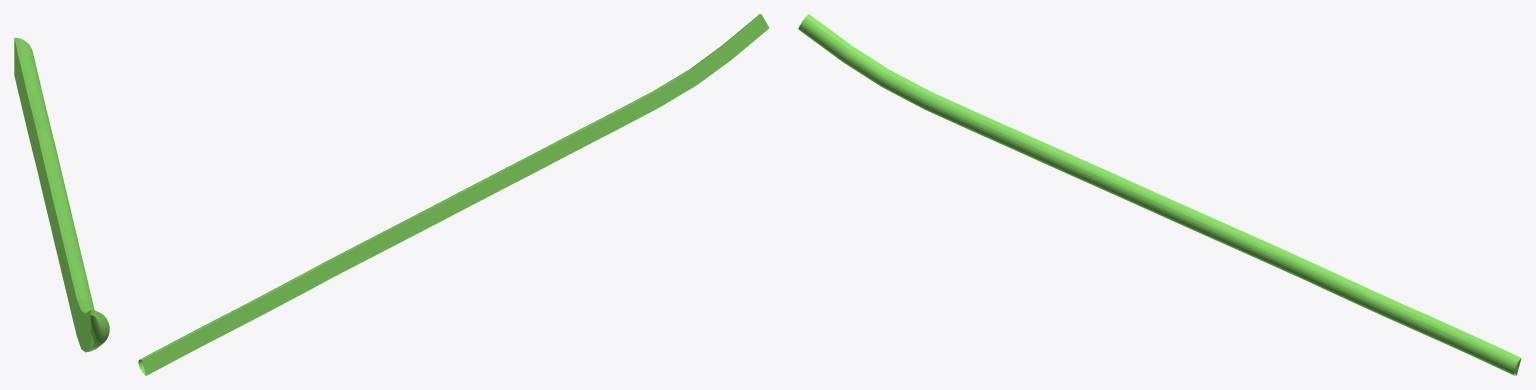
The model's file is asset.glb.
3 renders of one model, left to right at view 1: azimuth 90°, elevation 25°; view 2: azimuth 210°, elevation 25°; view 3: azimuth 330°, elevation 25°, orthographic. The views are drawn at different scales.
Parts seen in each view (by area): view 1: 3DTunnelBoden_center; view 2: 3DTunnelBoden_center; view 3: 3DTunnelBoden_center.
Boxes of the visible parts, x1,y1,x2,y2 form: 3DTunnelBoden_center: [14, 37, 109, 352]; 3DTunnelBoden_center: [138, 14, 769, 375]; 3DTunnelBoden_center: [798, 14, 1521, 375].
Size of the model in its own units: 546 by 155 by 34.99.
